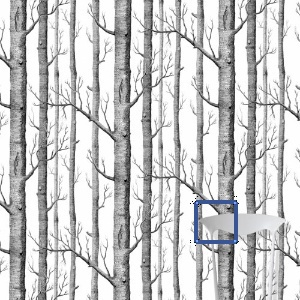square: (192, 196, 241, 246)
